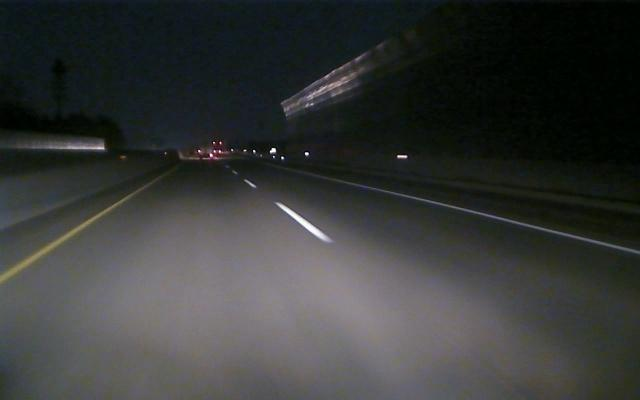lane: (353, 183, 638, 256), (1, 188, 142, 282), (245, 179, 336, 242)
